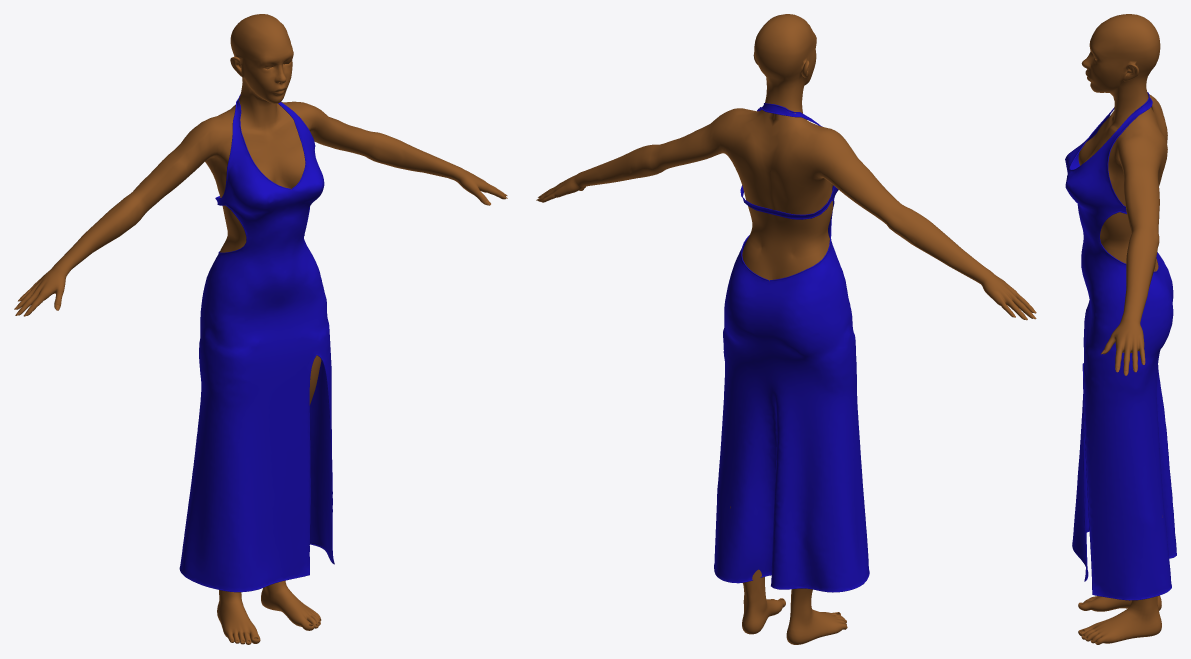
The model's file is dress9.glb.
3 views of the same model, side by side, from view 1: azimuth 30°, elevation 25°; view 2: azimuth 150°, elevation 25°; view 3: azimuth 270°, elevation 25° (orthographic).
Visible parts, largest first — view 1: EveningDress, Body; view 2: EveningDress, Body; view 3: EveningDress, Body.
Boxes of the visible parts, <box> form: EveningDress: <box>179,94,334,592</box>; Body: <box>16,14,506,644</box>; EveningDress: <box>714,103,869,592</box>; Body: <box>538,14,1033,644</box>; EveningDress: <box>1065,92,1176,600</box>; Body: <box>1078,14,1167,644</box>.
Bounding box in the file's own units: 1.58 × 1.85 × 0.3089.
